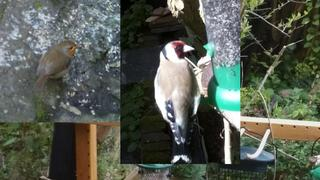goldfinch: (154, 40, 200, 164)
robin: (33, 40, 80, 91)
